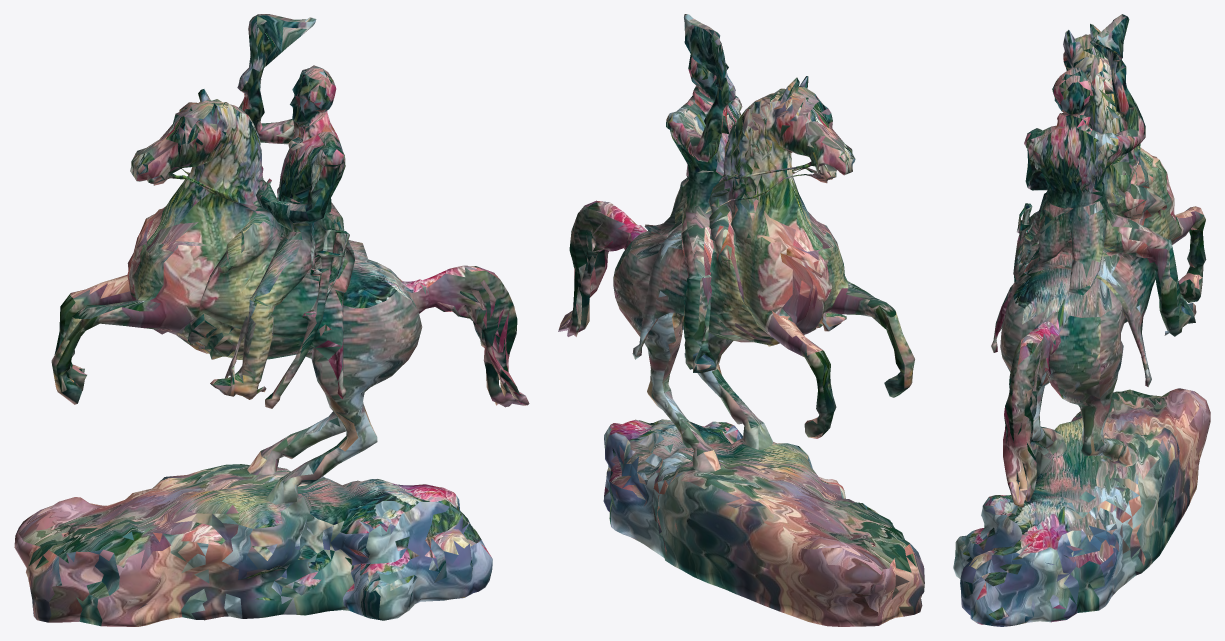
Rendered from si_npg_andrew-jackson.glb.
3 renders of one model, left to right at view 1: azimuth 30°, elevation 25°; view 2: azimuth 150°, elevation 25°; view 3: azimuth 270°, elevation 25°, orthographic. The views are drawn at different scales.
Parts seen in each view (by area): view 1: A; view 2: A; view 3: A.
Boxes of the visible parts, x1,y1,x2,y2 form: A: (14,14,529,626); A: (558,14,924,626); A: (953,14,1210,626).
Size of the model in its own units: 1.64 by 2 by 0.8613.
Materials: 1 (1 with a texture image).
